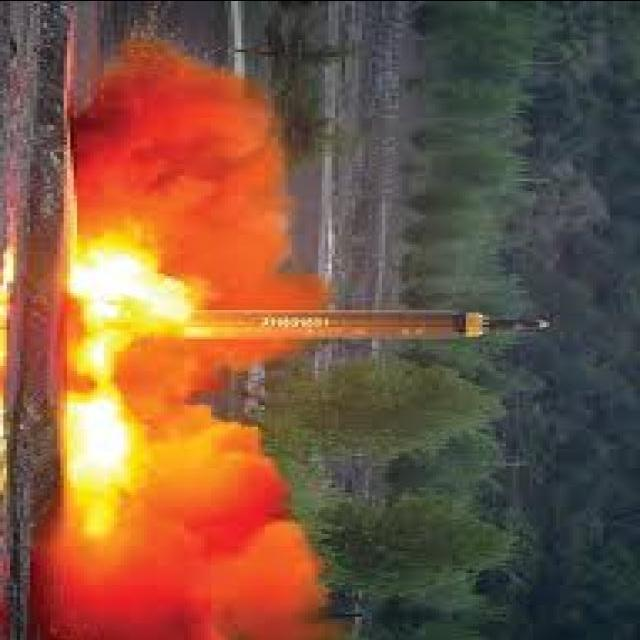missile: (156, 304, 560, 347)
